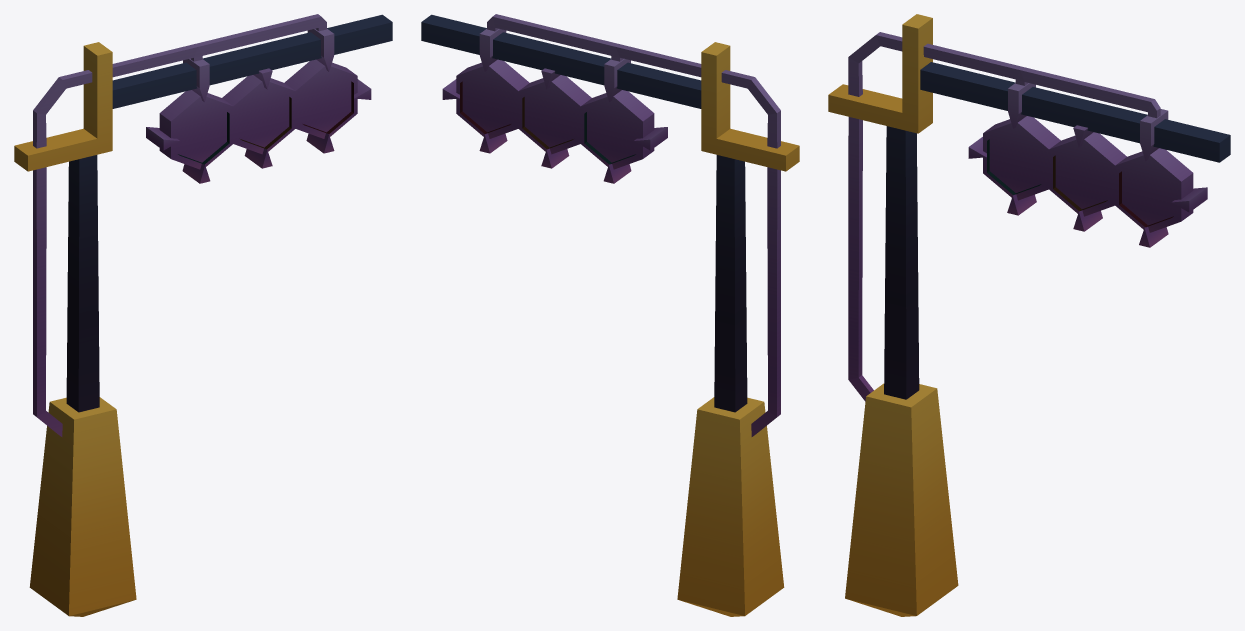
Rendered from Street_Light_01.gltf.
3 renders of one model, left to right at view 1: azimuth 30°, elevation 25°; view 2: azimuth 150°, elevation 25°; view 3: azimuth 330°, elevation 25°, orthographic. The views are drawn at different scales.
Visible parts, largest first — view 1: Street_Light_01; view 2: Street_Light_01; view 3: Street_Light_01.
Part boxes in pixels (bbox=[...]): Street_Light_01: bbox=[14, 14, 392, 616]; Street_Light_01: bbox=[421, 14, 799, 616]; Street_Light_01: bbox=[828, 14, 1230, 616].
Bounding box in the file's own units: 4.08 × 6 × 0.7541.
1 material, 1 textured.
